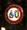Speed Limit -60-: (4, 4, 23, 23)
